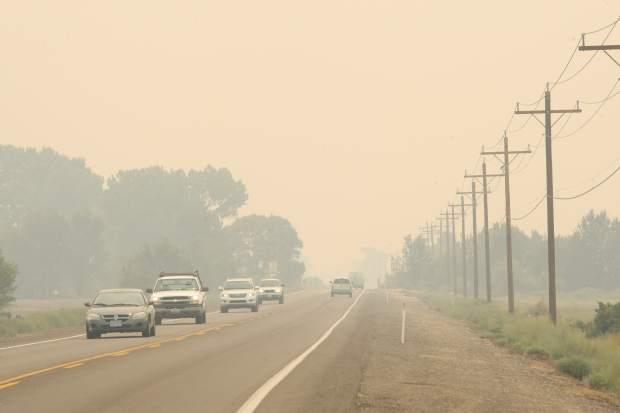car: (84, 288, 159, 339), (148, 270, 209, 326), (218, 277, 264, 312), (254, 279, 287, 305), (329, 277, 353, 297), (346, 271, 366, 291)
